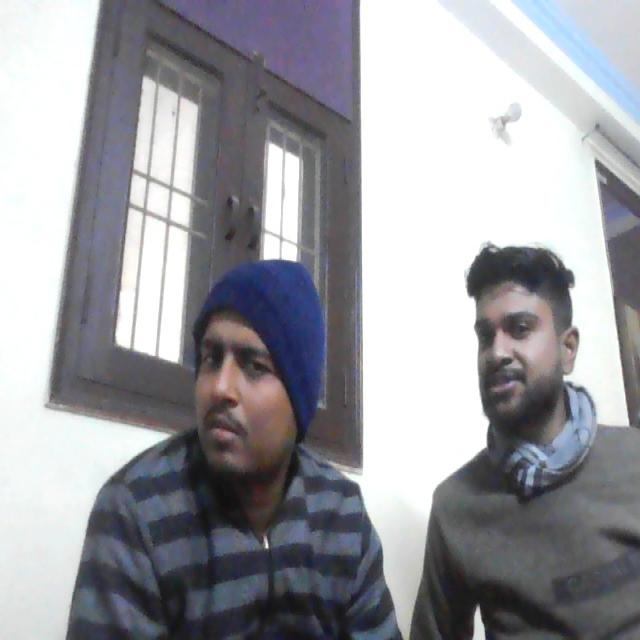real: (186, 259, 312, 496), (466, 236, 569, 431)
